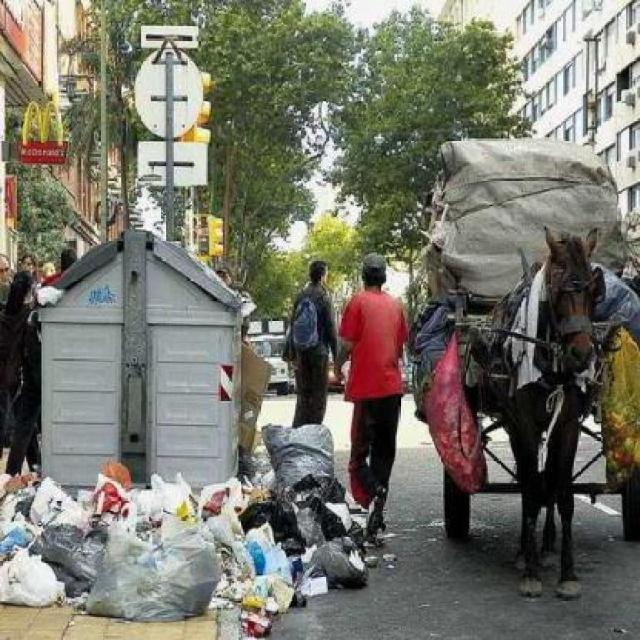garbage: (0, 459, 364, 625), (243, 340, 360, 626), (36, 285, 70, 308)
